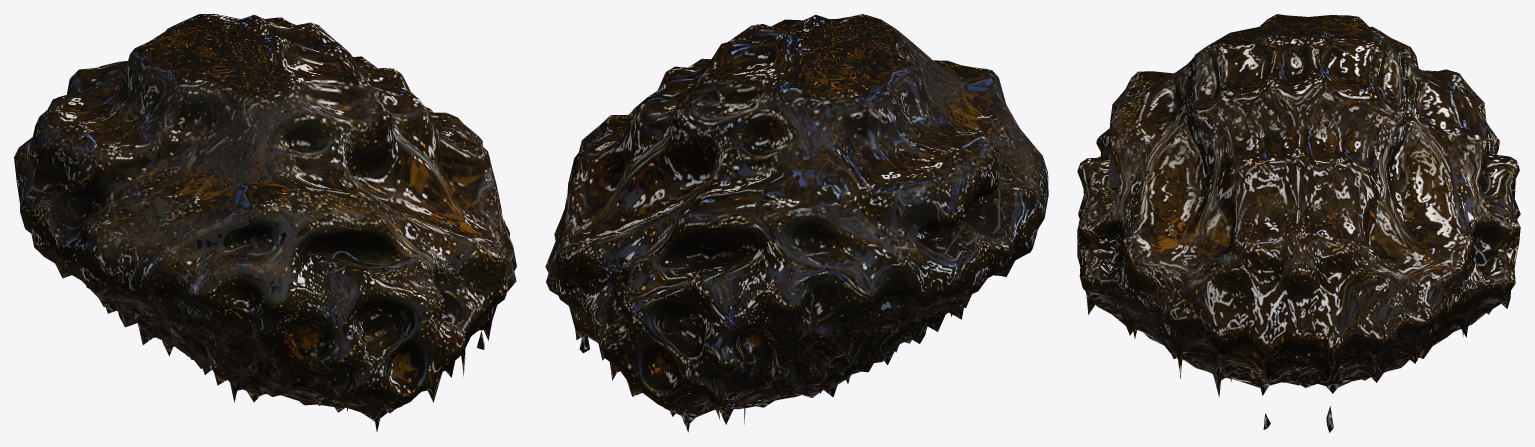
Rendered from sample_oil.fbx.
The picture shows the model from 3 angles, left to right: view 1: azimuth 30°, elevation 25°; view 2: azimuth 150°, elevation 25°; view 3: azimuth 270°, elevation 25°; orthographic projection. The views are drawn at different scales.
Parts seen in each view (by area): view 1: input; view 2: input; view 3: input.
Boxes of the visible parts, <box> form: input: <box>14,14,516,431</box>; input: <box>545,14,1048,432</box>; input: <box>1077,14,1520,432</box>.
Bounding box in the file's own units: 97.16 × 80.86 × 99.57.
Materials: 1 (1 with a texture image).
